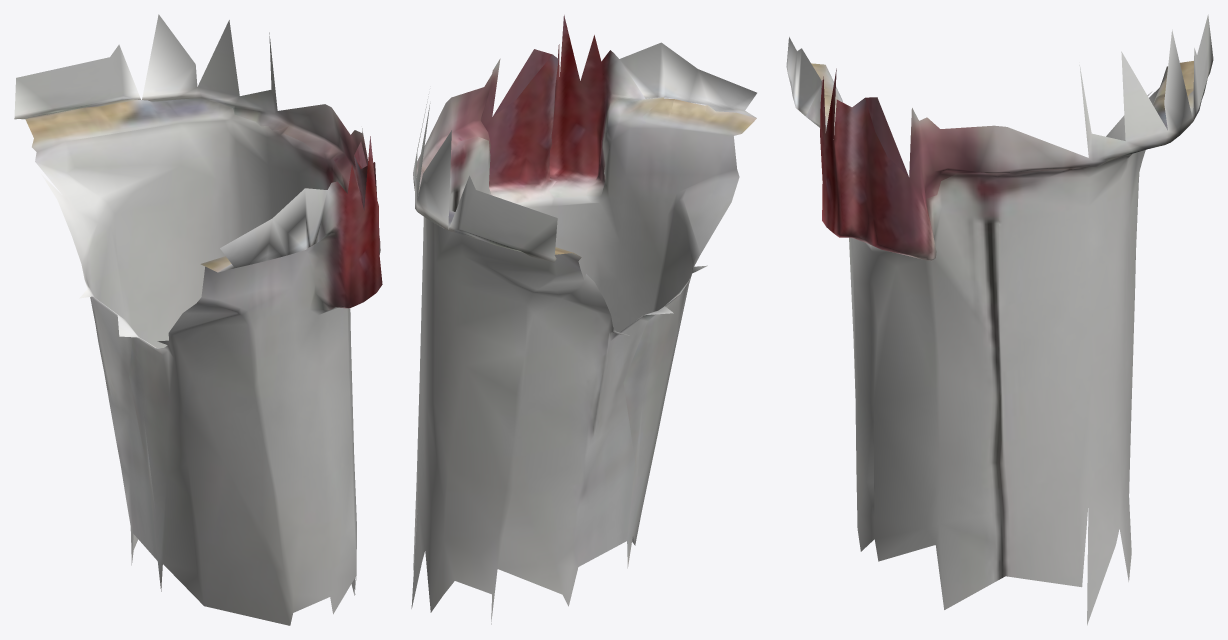
File: hombre_muslo_izq.obj
The picture shows the model from 3 angles, left to right: view 1: azimuth 30°, elevation 25°; view 2: azimuth 150°, elevation 25°; view 3: azimuth 270°, elevation 25°; orthographic projection. The views are drawn at different scales.
Visible parts, largest first — view 1: hombre_muslo_izq; view 2: hombre_muslo_izq; view 3: hombre_muslo_izq.
Boxes of the visible parts, <box> form: hombre_muslo_izq: <box>14,14,382,625</box>; hombre_muslo_izq: <box>411,15,756,624</box>; hombre_muslo_izq: <box>786,14,1213,625</box>.
Bounding box in the file's own units: 0.2164 × 0.4715 × 0.3278.
